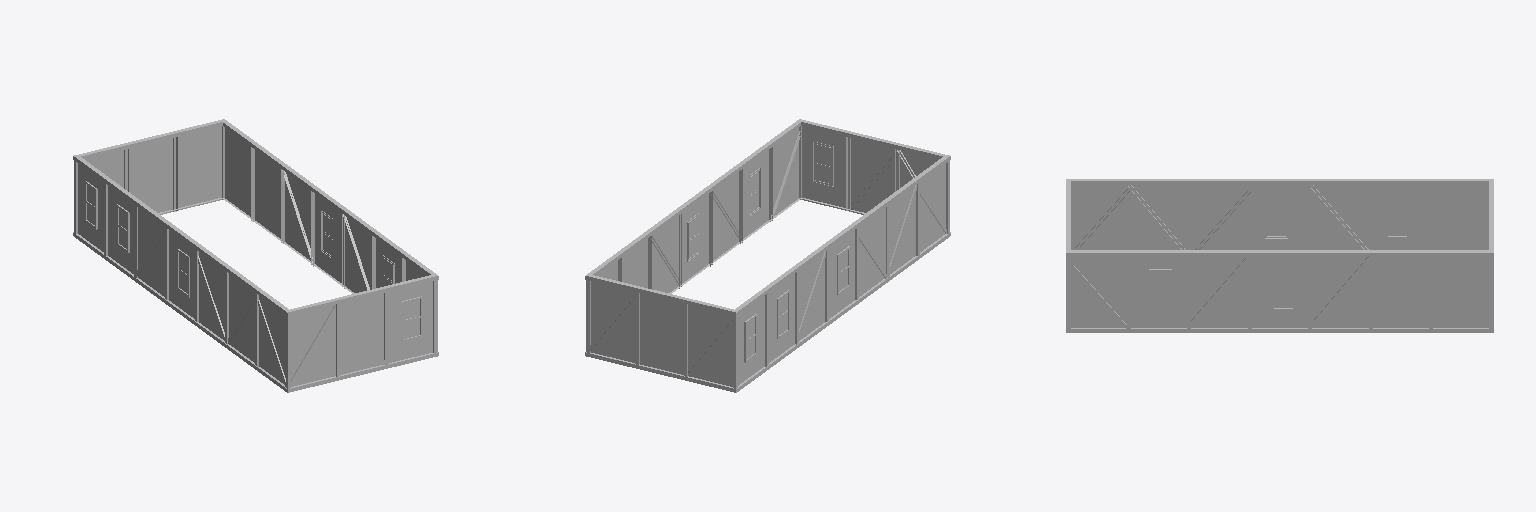
The picture shows the model from 3 angles: view 1: azimuth 30°, elevation 25°; view 2: azimuth 150°, elevation 25°; view 3: azimuth 270°, elevation 25°; orthographic projection.
Parts seen in each view (by area): view 1: Floor_1_8x20:buildingWalls, polySurface7 Floor_1_8x20:wood_Parts, polySurface6; view 2: Floor_1_8x20:buildingWalls, polySurface7 Floor_1_8x20:wood_Parts, polySurface6; view 3: Floor_1_8x20:buildingWalls, polySurface7 Floor_1_8x20:wood_Parts, polySurface6.
Part boxes in pixels (x1,y1,x2,y2): Floor_1_8x20:buildingWalls: (78, 126, 432, 386); polySurface7 Floor_1_8x20:wood_Parts: (73, 119, 438, 392); polySurface6: (87, 185, 419, 338); Floor_1_8x20:buildingWalls: (591, 126, 945, 386); polySurface7 Floor_1_8x20:wood_Parts: (585, 119, 950, 392); polySurface6: (747, 250, 847, 358); Floor_1_8x20:buildingWalls: (1071, 185, 1488, 327); polySurface7 Floor_1_8x20:wood_Parts: (1066, 179, 1493, 332); polySurface6: (1151, 272, 1292, 307).
Size of the model in its own units: 8.25 by 4.2 by 20.25.